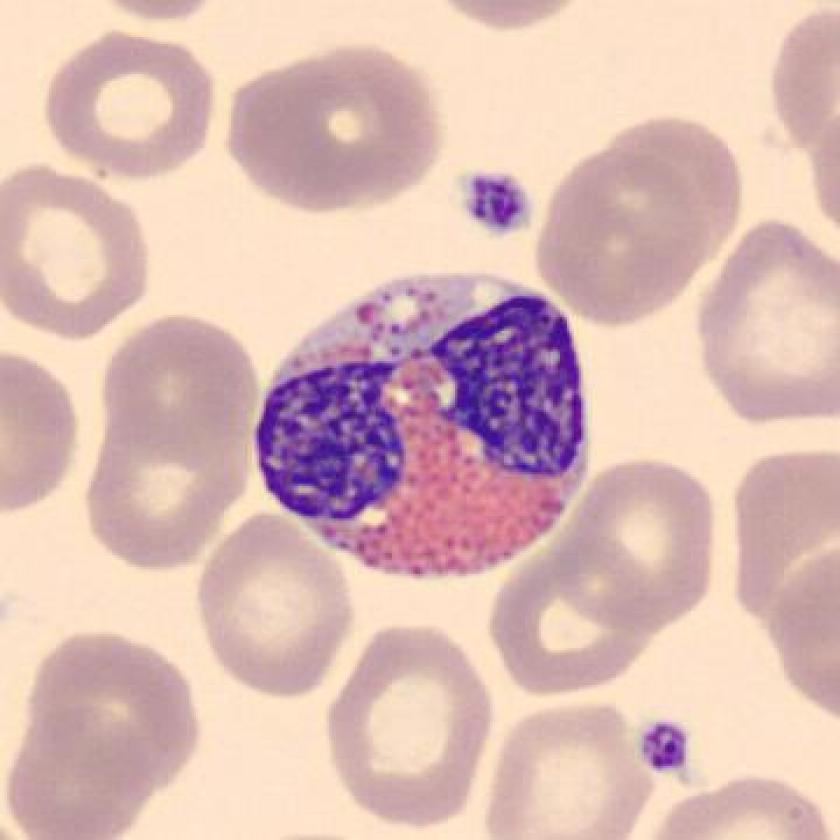eosinophil: (246, 253, 603, 591)
